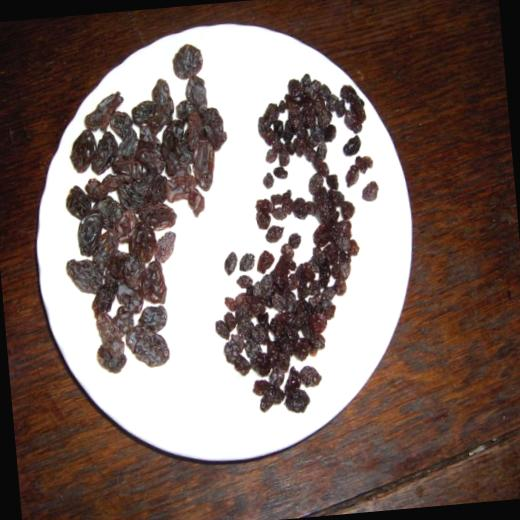Orange: (192, 67, 394, 420), (46, 40, 244, 378)
